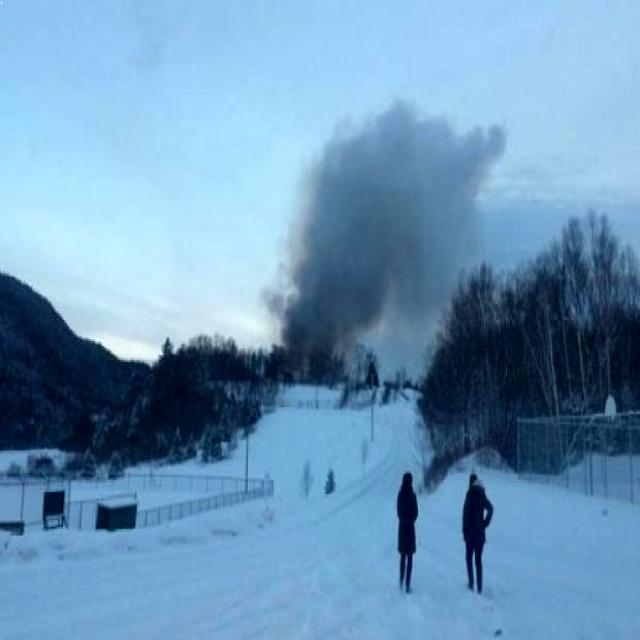Smoke: (277, 88, 516, 360)
